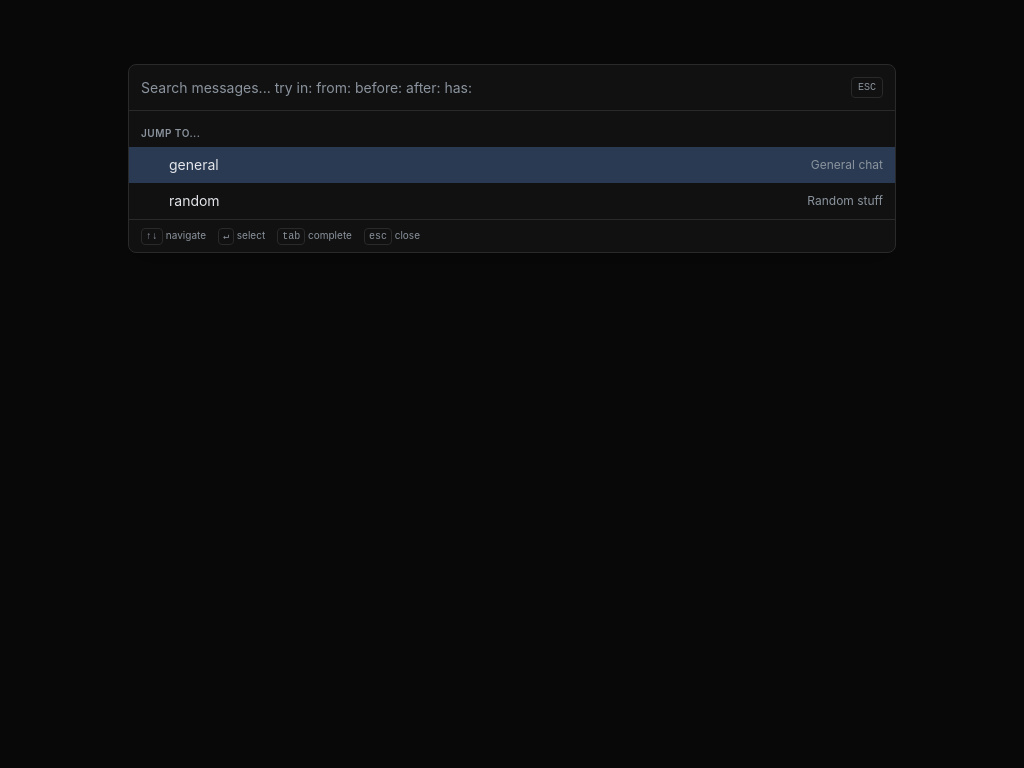
Test case: SearchPanel › typing in: opens channel autocomplete dropdown
Type "in:g" into the field with test id "search-input" at (492, 88), box top-left (141, 78), bottom-right (843, 98)
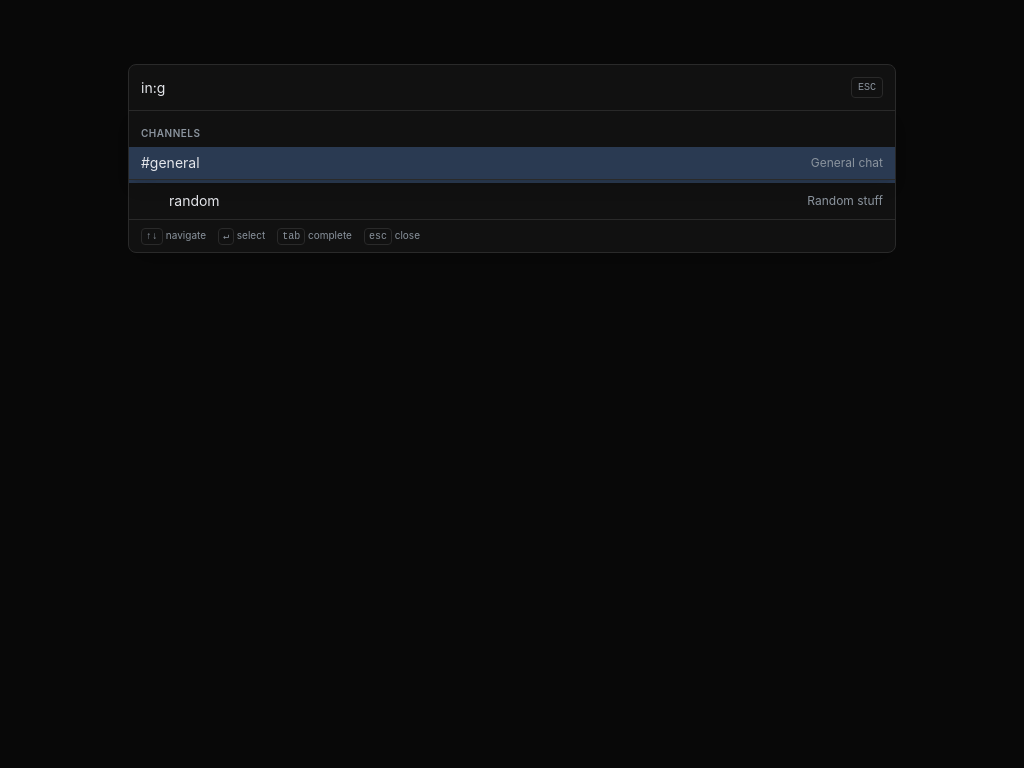
Expected: the element with test id "ac-dropdown" is shown, top-left (129, 111), bottom-right (895, 180)
Expected: the button with test id "ac-item" is shown, top-left (129, 147), bottom-right (895, 179)
